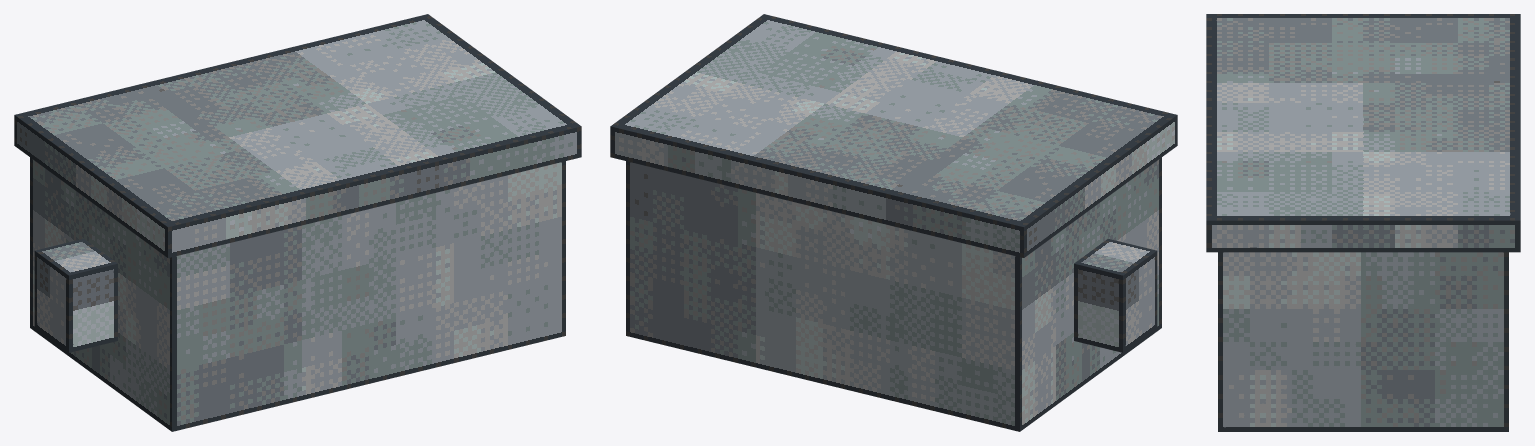
File: SM_MessTin_01.glb
3 renders of one model, left to right at view 1: azimuth 30°, elevation 25°; view 2: azimuth 150°, elevation 25°; view 3: azimuth 270°, elevation 25°, orthographic. The views are drawn at different scales.
Visible parts, largest first — view 1: SM_MessTin_01; view 2: SM_MessTin_01; view 3: SM_MessTin_01.
Boxes of the visible parts, x1,y1,x2,y2 form: SM_MessTin_01: [14, 14, 581, 431]; SM_MessTin_01: [610, 14, 1177, 431]; SM_MessTin_01: [1206, 14, 1520, 431].
Bounding box in the file's own units: 0.184 × 0.082 × 0.108.
Materials: 1 (1 with a texture image).
